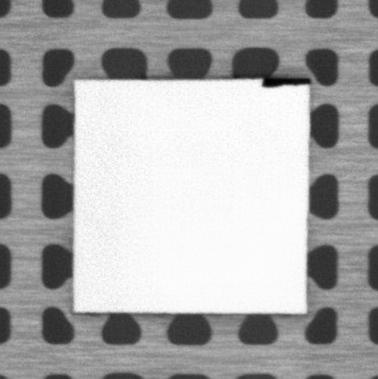DIE_BROKEN: (259, 75, 312, 88)
